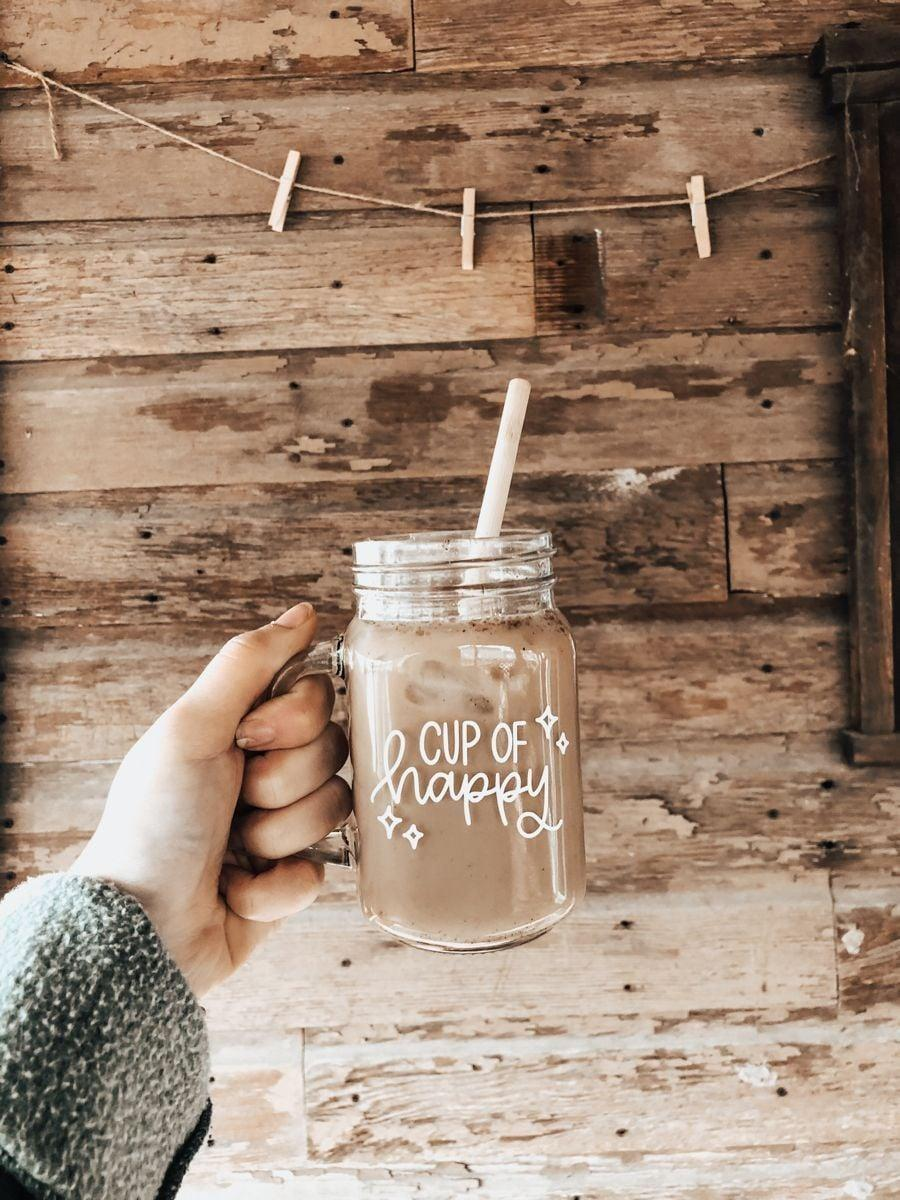glass-mug: (243, 519, 599, 960)
